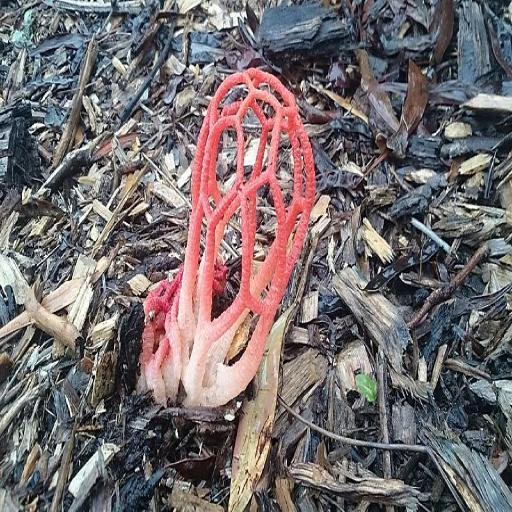mushroom: (141, 59, 325, 395)
